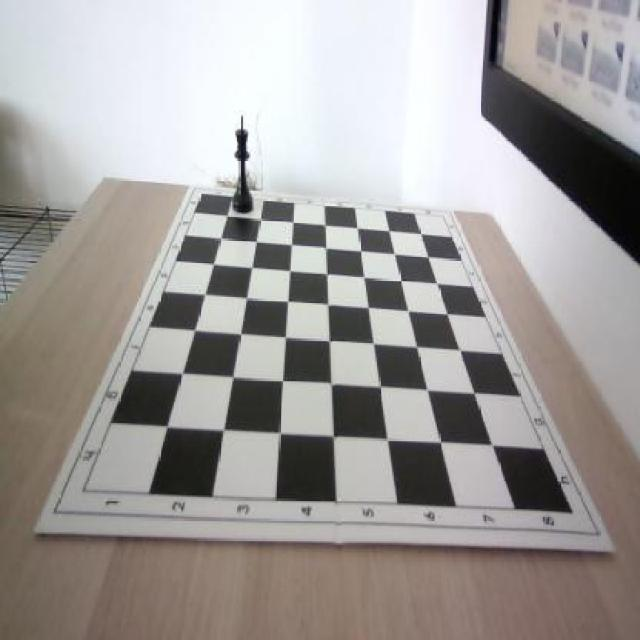black-bishop: (232, 113, 256, 214)
